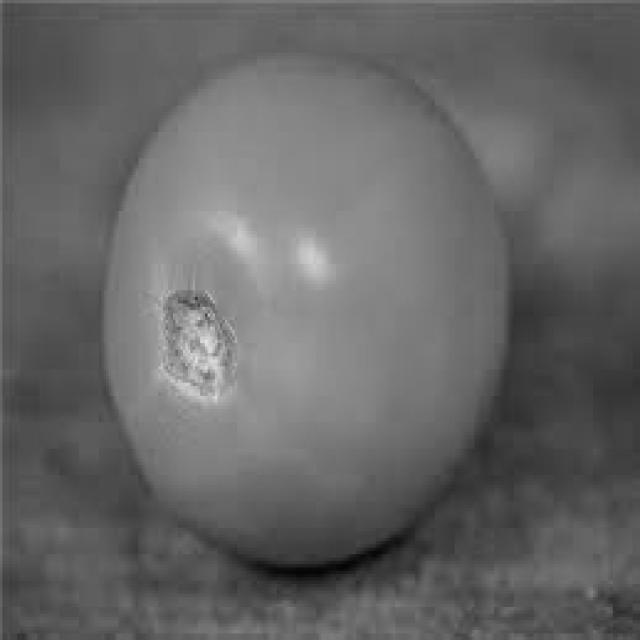Fresh_tomato: (114, 46, 514, 572)
